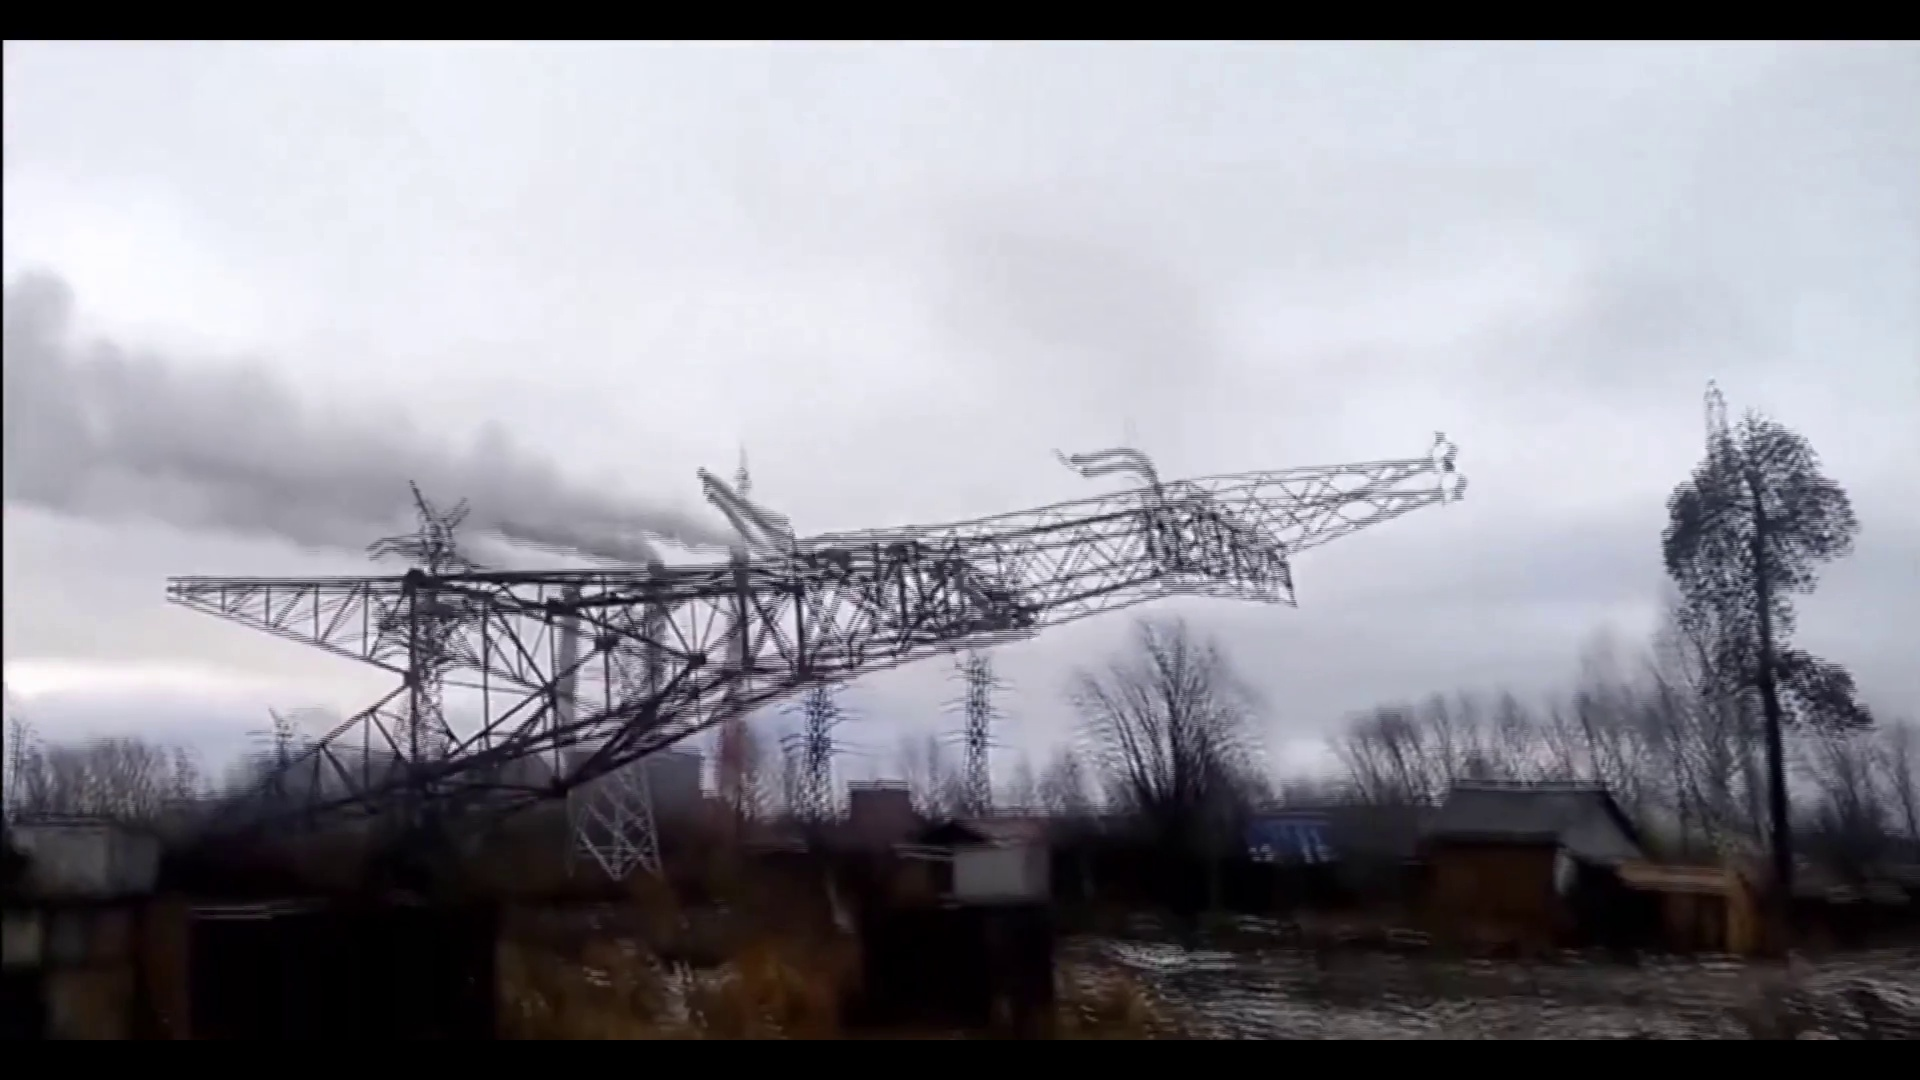tower_down: (185, 334, 1480, 841)
